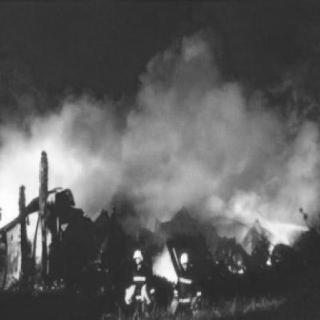Fire: (3, 114, 80, 193)
